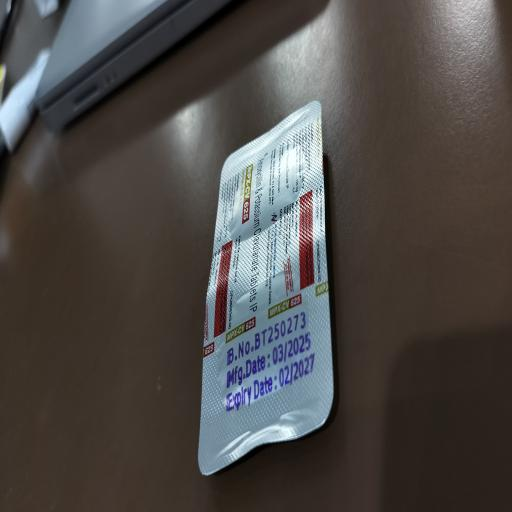amoxycillin: (248, 152, 265, 321)
medicine: (201, 147, 333, 456)
